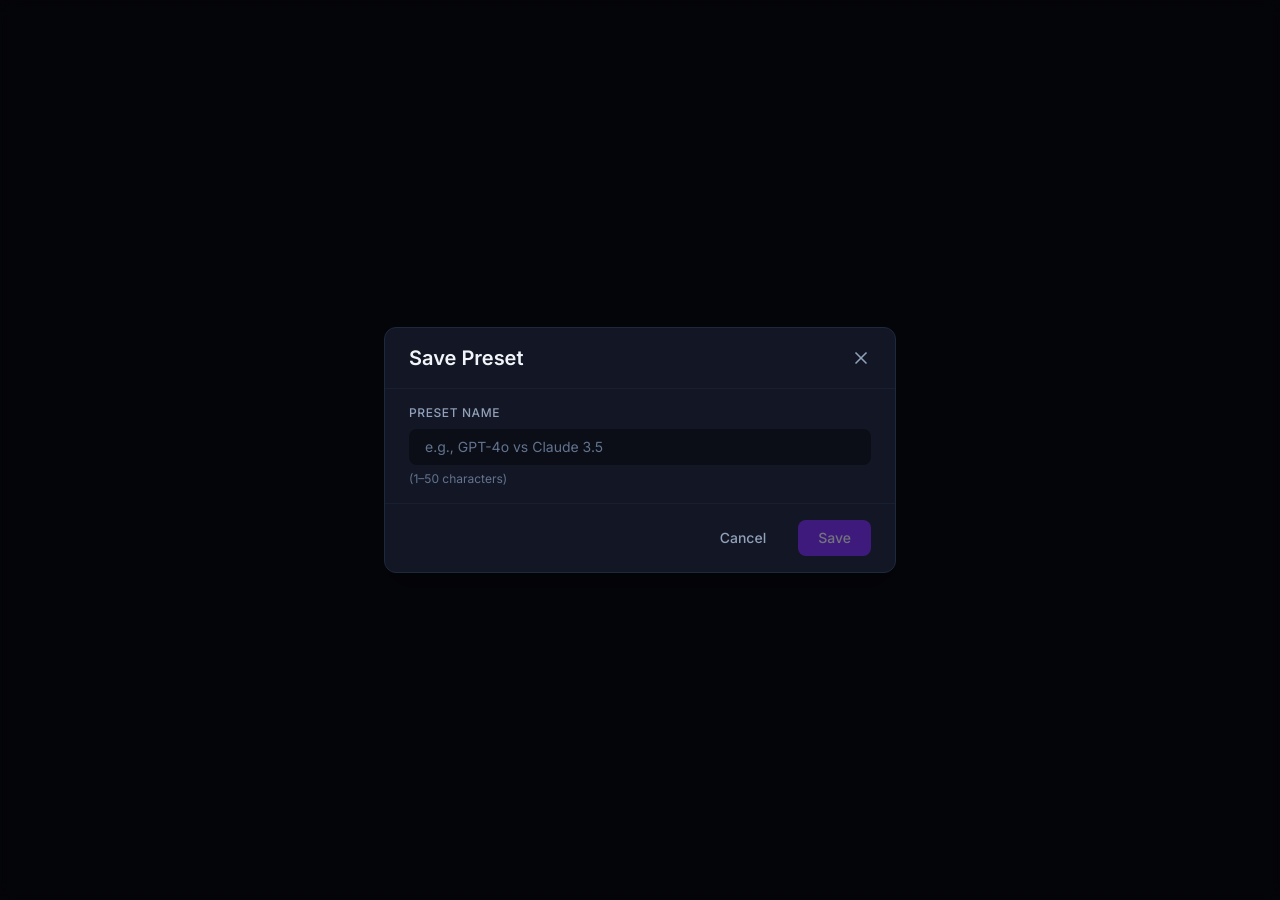
Scenario: SavePresetDialog › TC-UI-04: duplicate check is case-insensitive
Type "my preset" into the field with test id "preset-name-input" at (640, 447), box [409, 429, 871, 465]
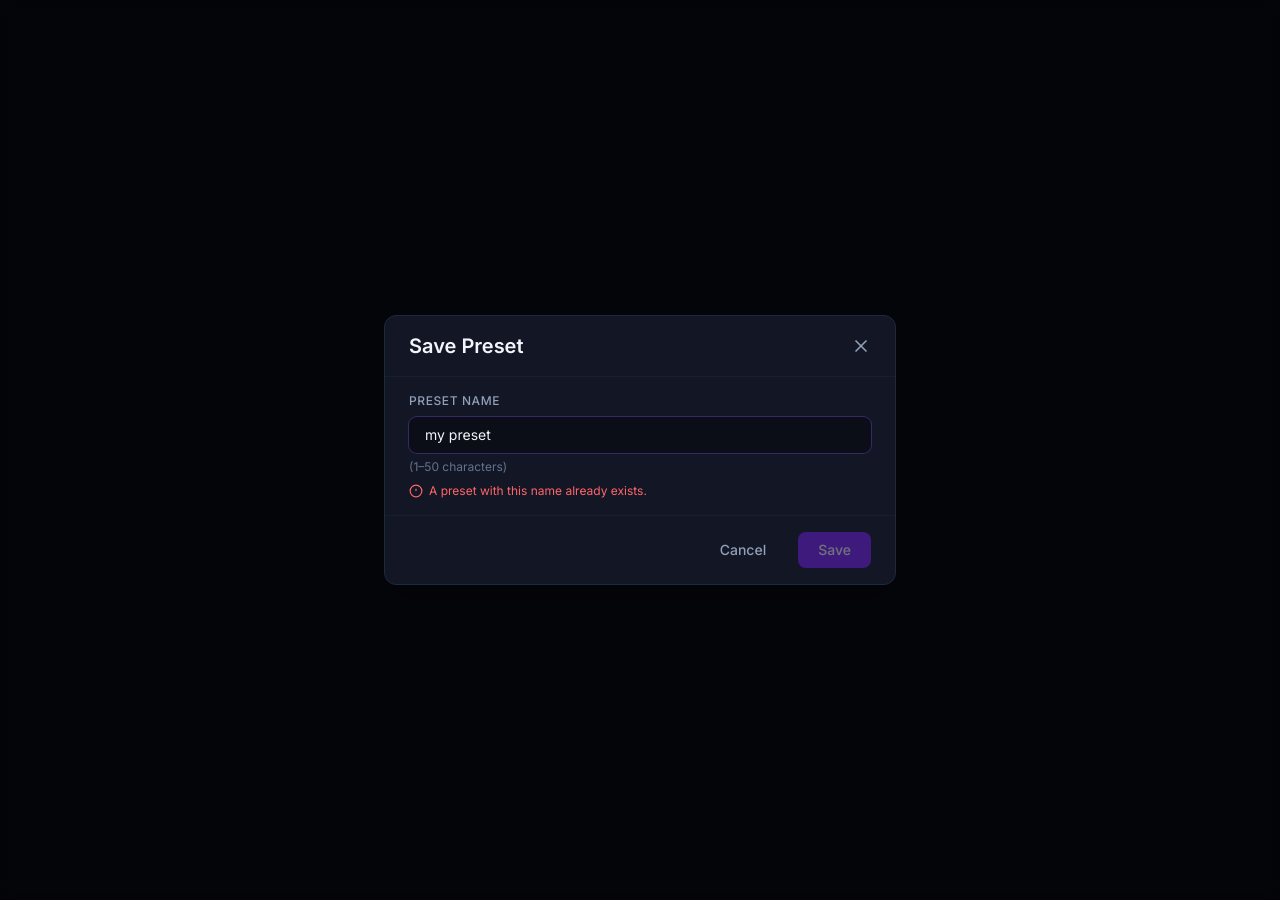
Check: the text "A preset with this name already exists." is shown, box [429, 483, 647, 499]
